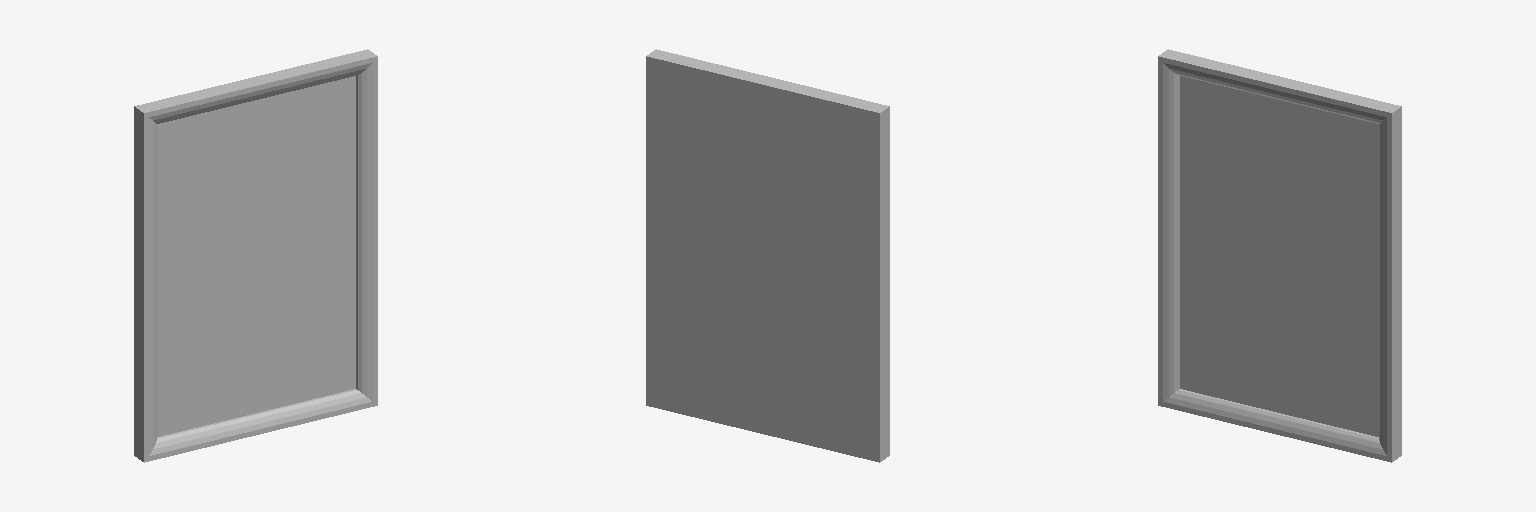
The model's file is Cuadro01.obj.
The picture shows the model from 3 angles: view 1: azimuth 30°, elevation 25°; view 2: azimuth 150°, elevation 25°; view 3: azimuth 330°, elevation 25°; orthographic projection.
Parts seen in each view (by area): view 1: pCube36; view 2: pCube36; view 3: pCube36.
Boxes of the visible parts, box(x1,y1,x2,y2) form: pCube36: box(134, 49, 377, 462); pCube36: box(646, 49, 889, 462); pCube36: box(1158, 49, 1401, 462).
Size of the model in its own units: 0.2682 by 0.3831 by 0.0192.